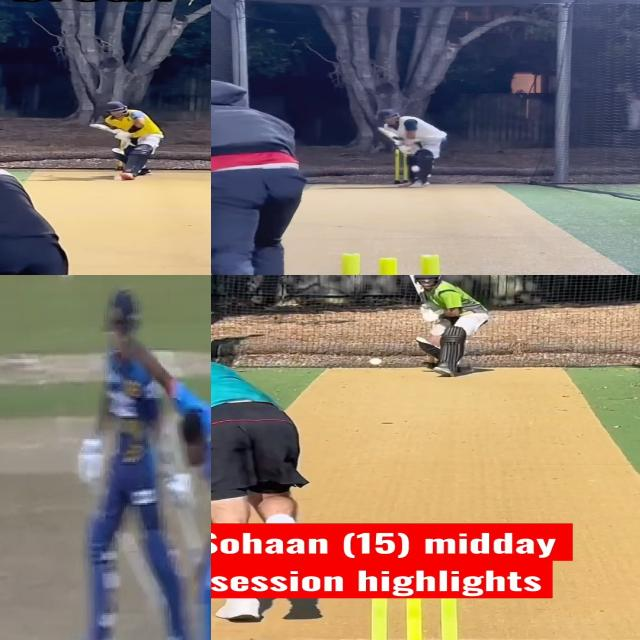Cricket ball: (406, 163, 425, 173), (61, 275, 82, 283), (368, 357, 384, 365), (112, 175, 124, 181)
